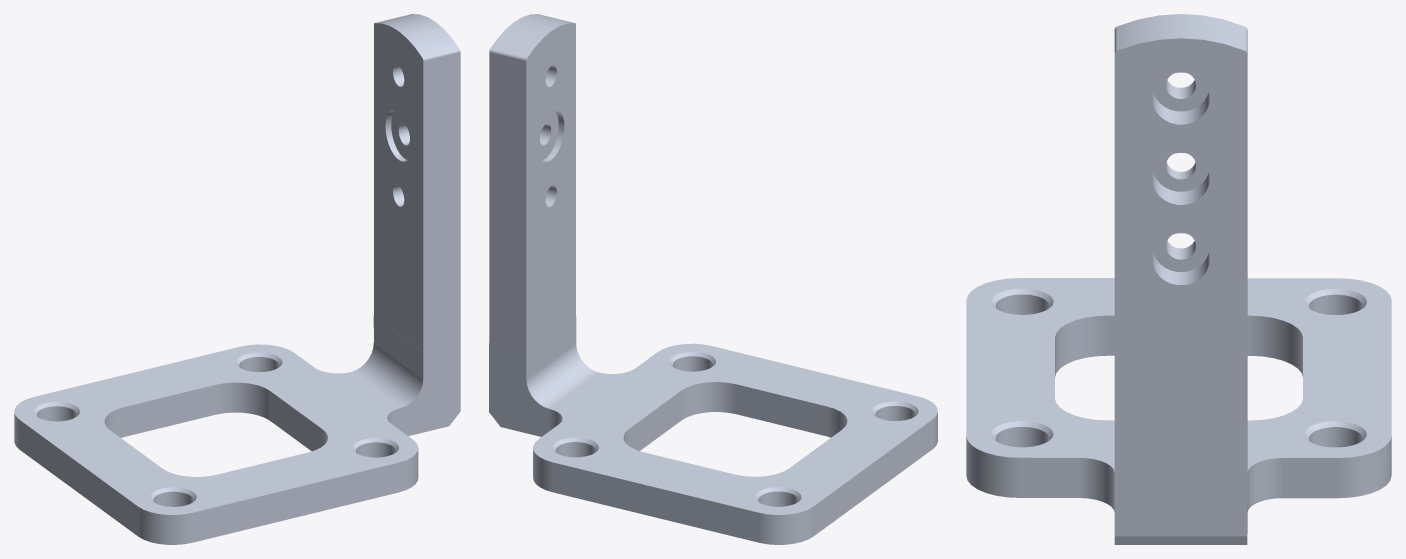
The model's file is openarm_wuji_mount_render.glb.
3 views of the same model, side by side, from view 1: azimuth 30°, elevation 25°; view 2: azimuth 150°, elevation 25°; view 3: azimuth 270°, elevation 25° (orthographic). The views are drawn at different scales.
Parts seen in each view (by area): view 1: openarm_wuji_mount; view 2: openarm_wuji_mount; view 3: openarm_wuji_mount.
Boxes of the visible parts, x1,y1,x2,y2 form: openarm_wuji_mount: (14, 14, 460, 544); openarm_wuji_mount: (489, 14, 937, 544); openarm_wuji_mount: (966, 14, 1391, 544).
Size of the model in its own units: 0.0625 by 0.064 by 0.048.
